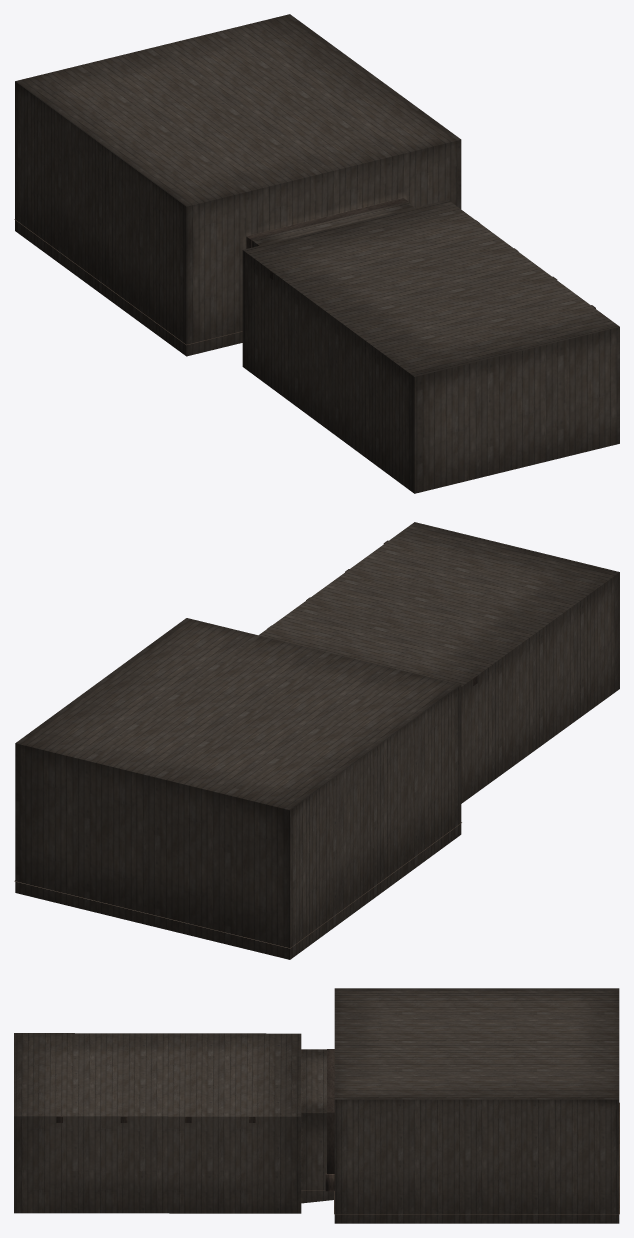
File: Theater.fbx
The picture shows the model from 3 angles, top to bottom: view 1: azimuth 30°, elevation 25°; view 2: azimuth 150°, elevation 25°; view 3: azimuth 270°, elevation 25°; orthographic projection. The views are drawn at different scales.
Visible parts, largest first — view 1: Theater; view 2: Theater; view 3: Theater.
Part boxes in pixels (x1,y1,x2,y2): Theater: (14, 14, 619, 493); Theater: (14, 522, 619, 959); Theater: (14, 988, 619, 1223).
Bounding box in the file's own units: 1105 × 593 × 2530.
